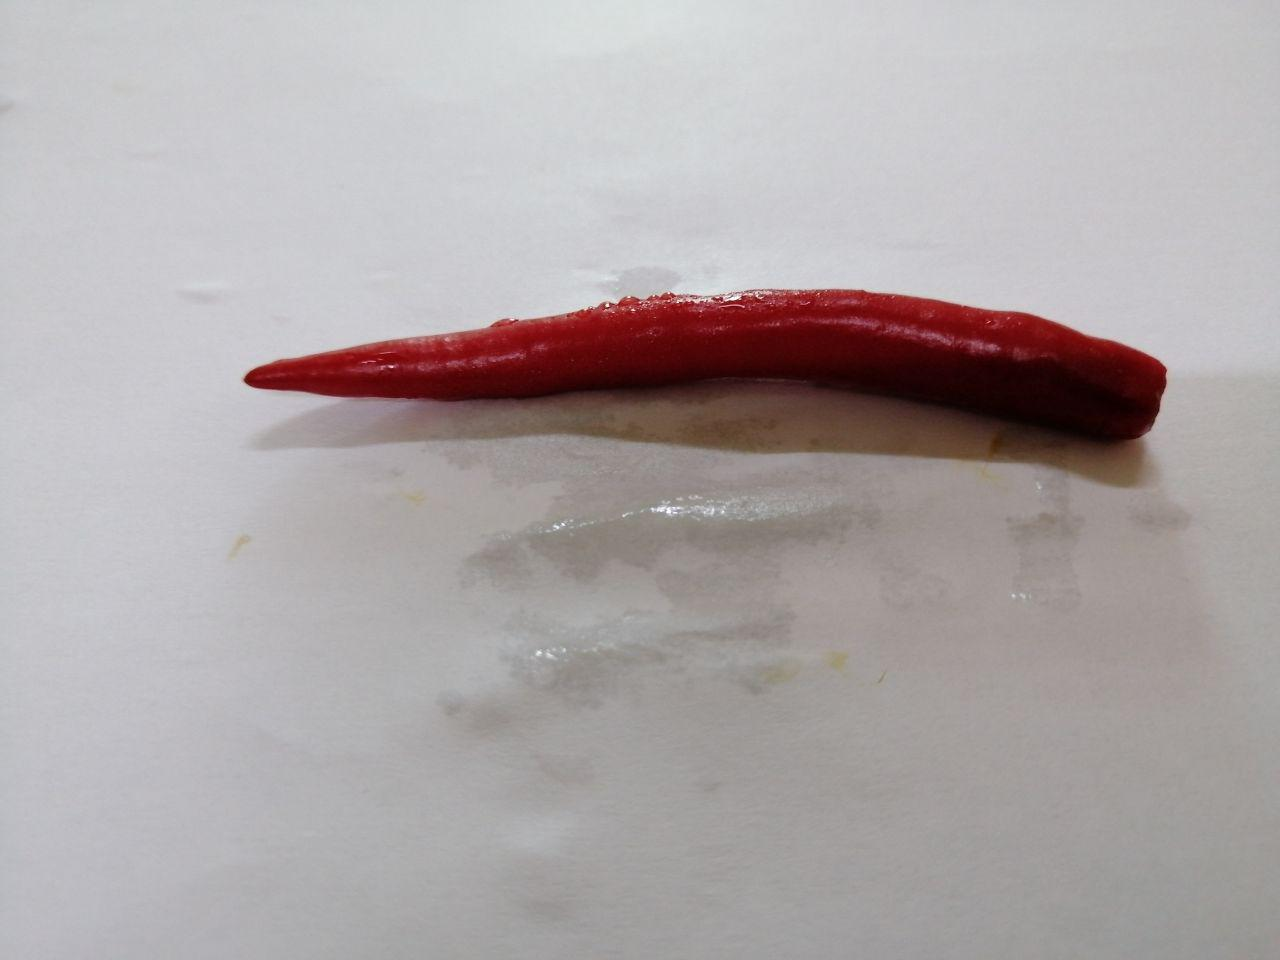lada merah: (224, 265, 1181, 521)
